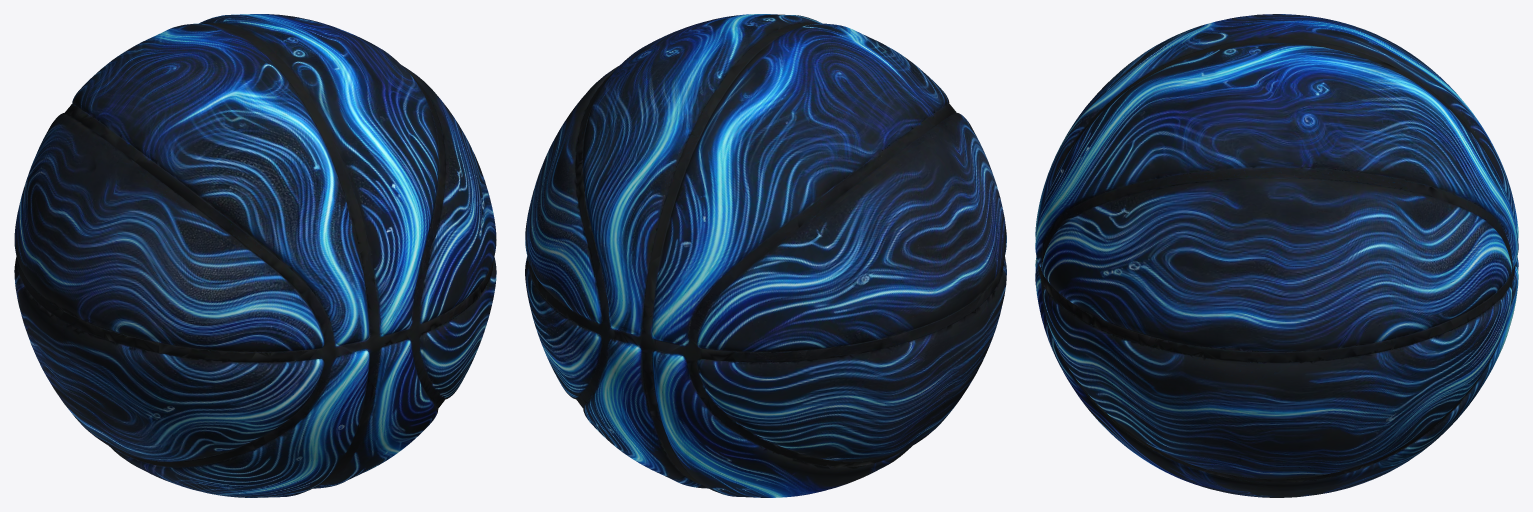
File: basketball-blu-mobile.glb
3 renders of one model, left to right at view 1: azimuth 30°, elevation 25°; view 2: azimuth 150°, elevation 25°; view 3: azimuth 270°, elevation 25°, orthographic.
Parts seen in each view (by area): view 1: node_0; view 2: node_0; view 3: node_0.
Part boxes in pixels (<box>): node_0: <box>14,14,496,497</box>; node_0: <box>525,14,1006,497</box>; node_0: <box>1035,14,1518,497</box>.
Size of the model in its own units: 1.19 by 1.19 by 1.19.
1 material, 1 textured.
